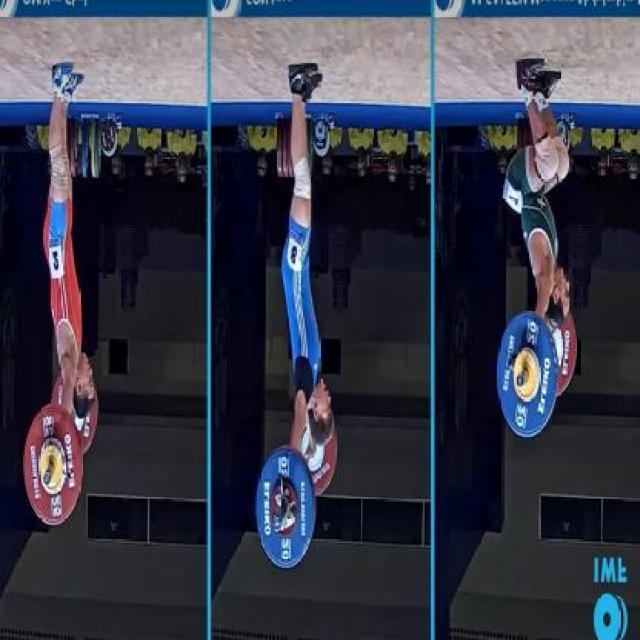Barbell: (266, 492, 291, 542), (512, 350, 534, 401), (40, 456, 56, 493)
